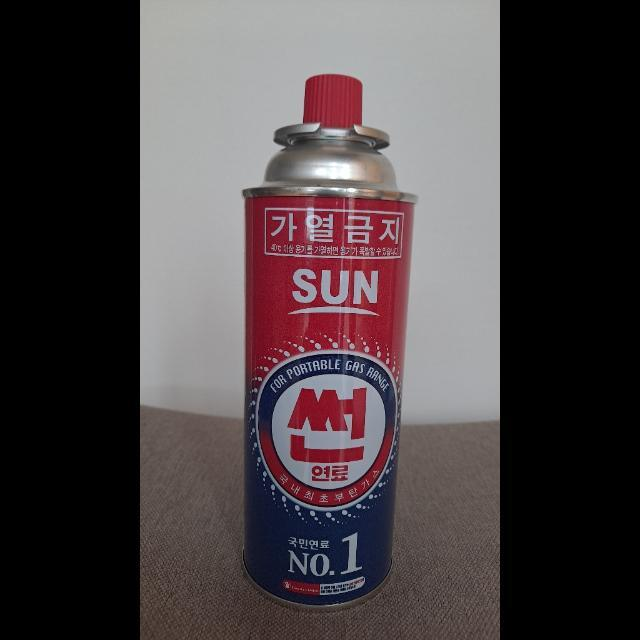chemical_spray_can: (233, 66, 415, 612)
